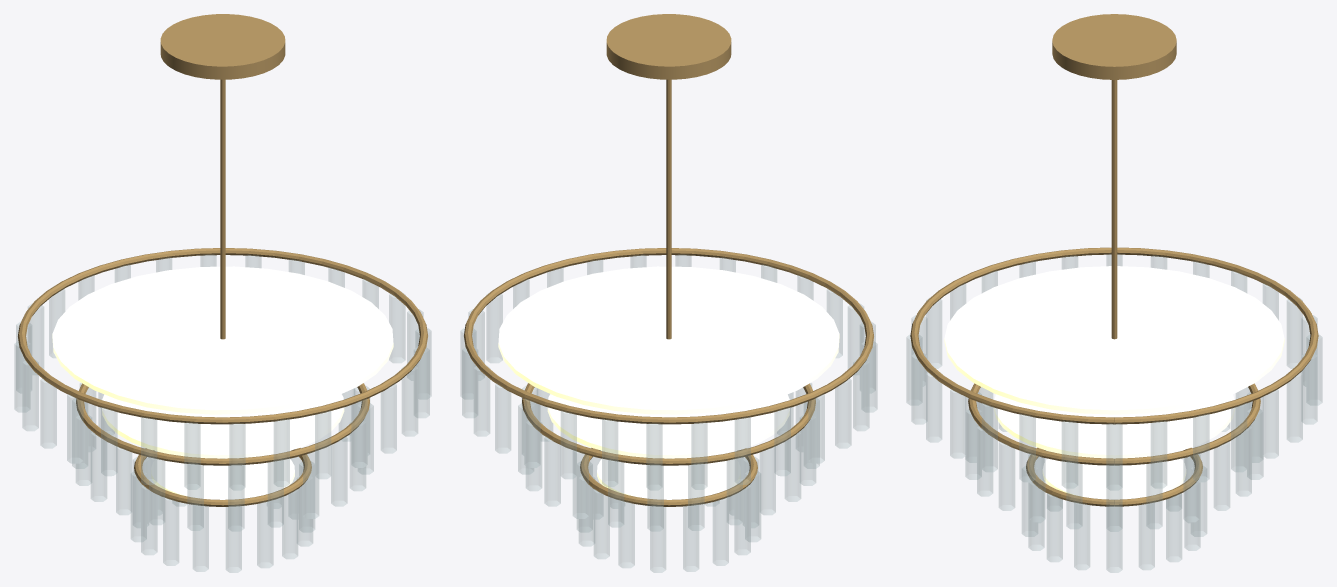
Rendered from chandelier-crystal-tier.glb.
The picture shows the model from 3 angles, left to right: view 1: azimuth 30°, elevation 25°; view 2: azimuth 150°, elevation 25°; view 3: azimuth 270°, elevation 25°; orthographic projection.
Parts seen in each view (by area): view 1: chandelier-crystal-tier authored assembly; view 2: chandelier-crystal-tier authored assembly; view 3: chandelier-crystal-tier authored assembly.
Boxes of the visible parts, x1,y1,x2,y2 form: chandelier-crystal-tier authored assembly: [14, 14, 431, 572]; chandelier-crystal-tier authored assembly: [460, 14, 877, 572]; chandelier-crystal-tier authored assembly: [906, 14, 1322, 572].
Bounding box in the file's own units: 0.65 × 0.85 × 0.65.
